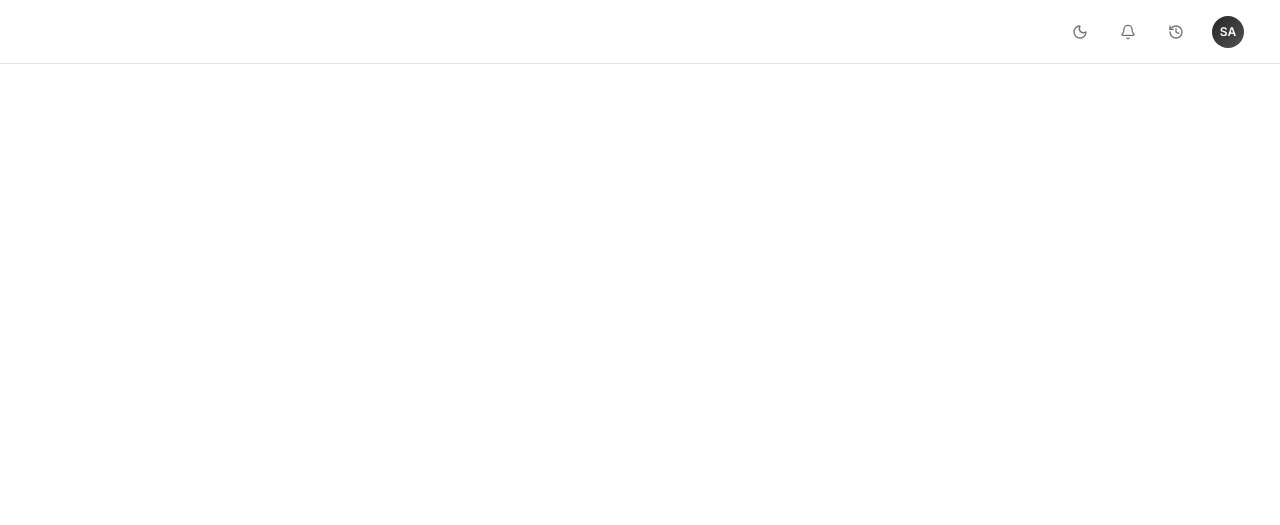
it: Topbar bell — View all notifications › shows the latest ten until expanded, without leaving the page
Click the button named "Notifications": (1128, 32) [1108, 12, 1148, 52]
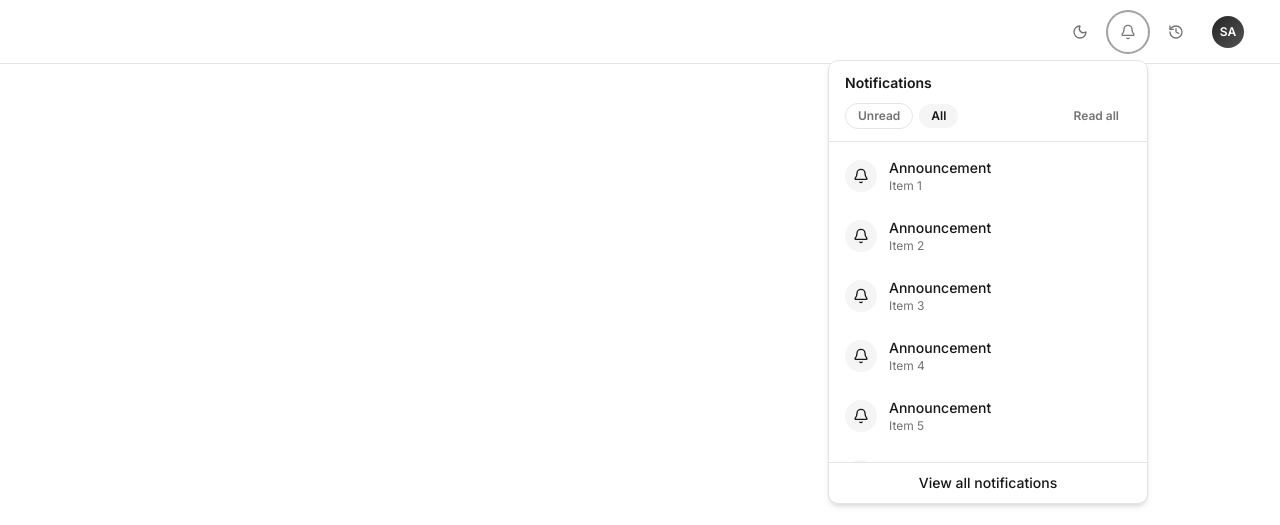
Result: the button "View all notifications" is shown at [829, 462, 1147, 502]
